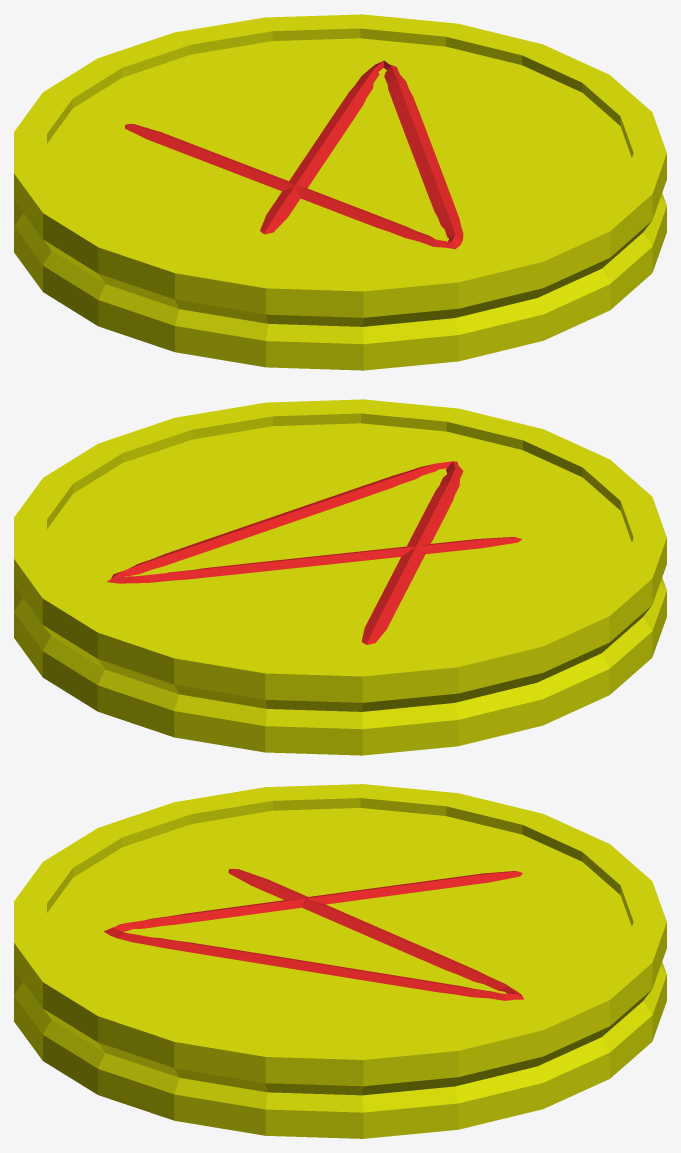
The model's file is coin-4-1.fbx.
The picture shows the model from 3 angles, top to bottom: view 1: azimuth 30°, elevation 25°; view 2: azimuth 150°, elevation 25°; view 3: azimuth 270°, elevation 25°; orthographic projection.
Visible parts, largest first — view 1: Plane.025; view 2: Plane.025; view 3: Plane.025.
Part boxes in pixels (left/top/right/bottom): Plane.025: left=14, top=14, right=666, bottom=370; Plane.025: left=14, top=399, right=666, bottom=755; Plane.025: left=14, top=784, right=666, bottom=1138.
Size of the model in its own units: 3 by 0.4 by 3.
